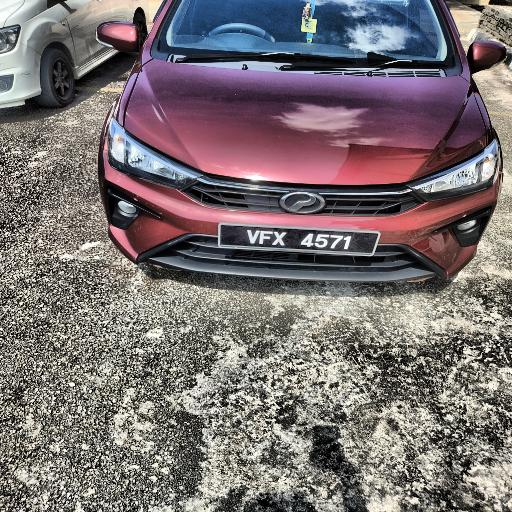license_plate: (217, 219, 377, 258)
